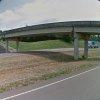Bridge: (1, 12, 100, 60)
